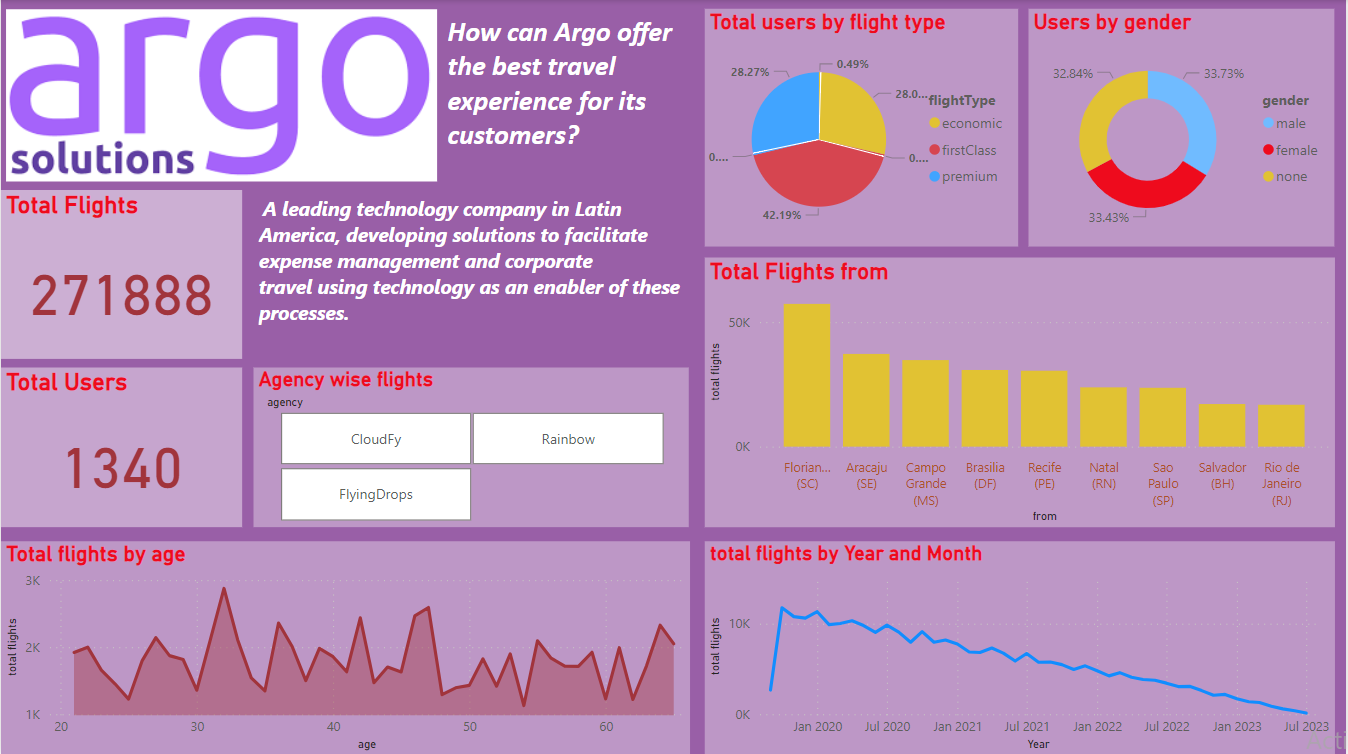

What the dashboard file says about the page in this screenshot:
{"tool":"powerbi","page":{"name":"Page 1","canvas":[1280,720],"ordinal":0},"visuals":[{"type":"card","title":"Total Flights","fields":{"Values":["flights.total flights"]},"box":[0,180.9,229.7,160.7],"z":0},{"type":"card","title":"Total Users","fields":{"Values":["users.total users"]},"box":[0,349.9,229.7,152.3],"z":1000},{"type":"donutChart","title":"Users by gender","fields":{"Category":["users.gender"],"Y":["users.total users"]},"box":[978.2,8.3,291.6,226.1],"z":2000},{"type":"lineStackedColumnComboChart","title":"Total Flights from","fields":{"Y":["flights.total flights"],"Category":["flights.from"]},"box":[670,245.2,599.8,257.1],"z":3000},{"type":"lineChart","fields":{"Y":["flights.total flights"],"Category":["flights.date.Variation.Date Hierarchy.Year","flights.date.Variation.Date Hierarchy.Month"]},"box":[670,515.3,599.8,204.7],"z":4000},{"type":"stackedAreaChart","title":"Total flights by age","fields":{"Category":["users.age"],"Y":["flights.total flights"]},"box":[0,515.3,655.7,204.7],"z":5000},{"type":"pieChart","title":"Total users by flight type","fields":{"Category":["flights.flightType"],"Y":["users.total users","flights.total flights"]},"box":[670,8.3,298.7,226.1],"z":6000},{"type":"image","box":[0,0,420.1,180.9],"z":7000},{"type":"textbox","box":[240.4,180.9,415.3,141.6],"z":7001},{"type":"textbox","box":[420.1,8.3,235.6,163],"z":7002},{"type":"slicer","title":"Agency wise flights","fields":{"Values":["flights.agency"]},"box":[240.4,349.9,414.1,152.3],"z":7003}]}

Visuals, with their boxes in screenshot pixels (x1, y1, x2, y2), scaled from the page's 1280x720 canvas onto the 1348x754 screenshot:
"Total Flights" card: BBox(0, 189, 242, 358)
"Total Users" card: BBox(0, 366, 242, 526)
"Users by gender" donutChart: BBox(1030, 9, 1337, 245)
"Total Flights from" lineStackedColumnComboChart: BBox(706, 257, 1337, 526)
lineChart - flights.total flights x flights.date.Variation.Date Hierarchy.Year: BBox(706, 540, 1337, 753)
"Total flights by age" stackedAreaChart: BBox(0, 540, 691, 753)
"Total users by flight type" pieChart: BBox(706, 9, 1020, 245)
image: BBox(0, 0, 442, 189)
textbox: BBox(253, 189, 691, 338)
textbox: BBox(442, 9, 691, 179)
"Agency wise flights" slicer: BBox(253, 366, 689, 526)
